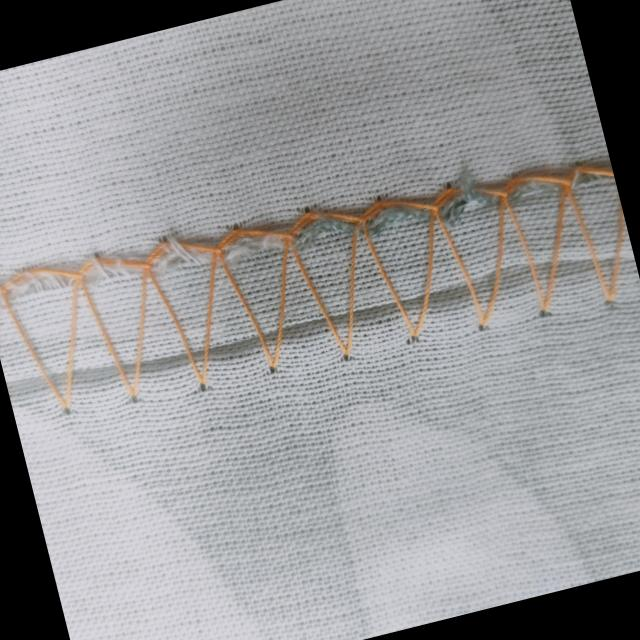gray stitch: (0, 118, 640, 457)
